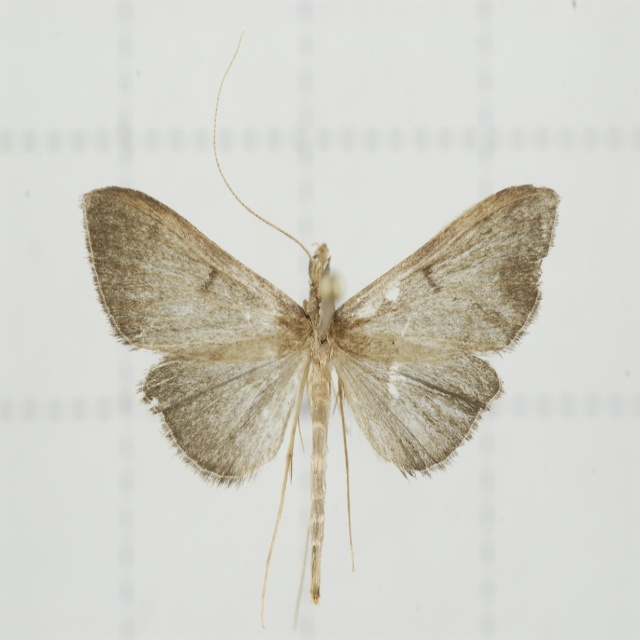Butterfly: (80, 33, 560, 630)
